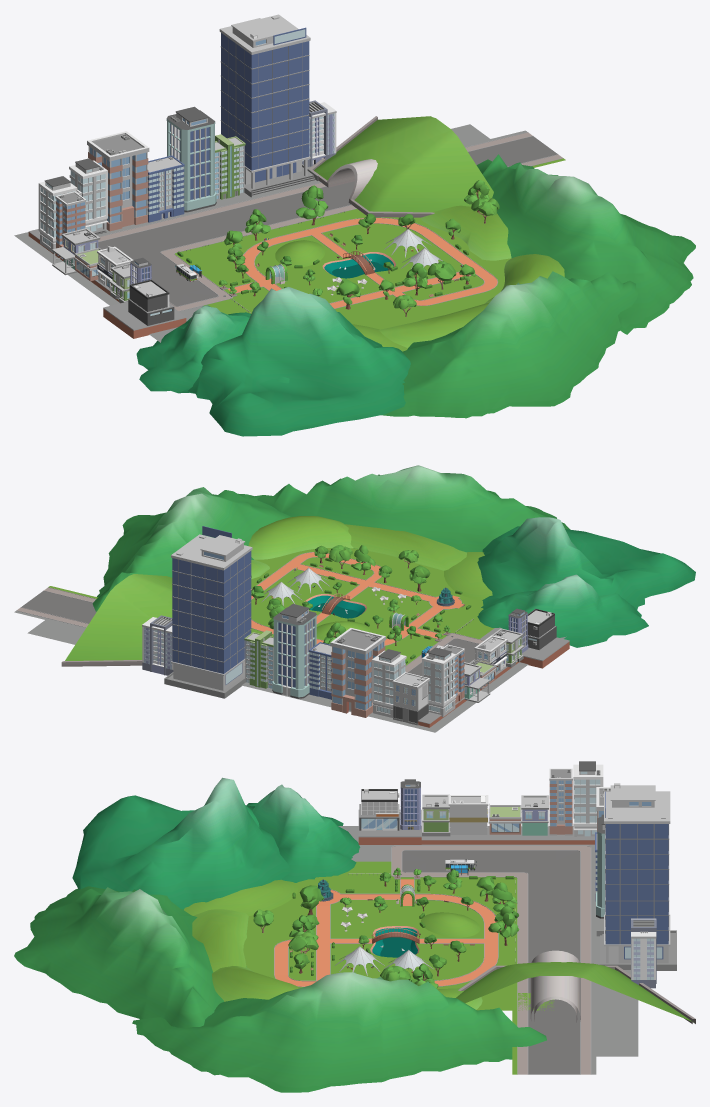
The model's file is park.glb.
3 renders of one model, top to bottom at view 1: azimuth 30°, elevation 25°; view 2: azimuth 150°, elevation 25°; view 3: azimuth 270°, elevation 25°, orthographic. The views are drawn at different scales.
Visible parts, largest first — view 1: SM_mountain_16, SM_mountain_15, SM_mountain_17, SM_home_business_centers_12, SM_tunnel_001, SM_grass_17, SM_mountain_014, SM_home_business_centers_11, SM_home_business_centers_6, SM_grass_11, SM_park_road_007, SM_ground_3 (+30 smaller); view 2: SM_mountain_16, SM_home_business_centers_12, SM_mountain_15, SM_mountain_17, SM_mountain_014, SM_tunnel_001, SM_home_business_centers_11, SM_home_business_centers_6, SM_ground_4, SM_ground_5, SM_park_road_007, SM_home_living_1_4 (+33 smaller); view 3: SM_mountain_17, SM_mountain_16, SM_mountain_15, SM_home_business_centers_12, SM_grass_17, SM_grass_11, SM_tunnel_001, SM_mountain_014, SM_park_road_007, SM_park_road_35, SM_ground_5, SM_grass_15 (+37 smaller).
Boxes of the visible parts, x1,y1,x2,y2 form: SM_mountain_16: [381, 271, 638, 418]; SM_mountain_15: [188, 287, 410, 436]; SM_mountain_17: [476, 154, 695, 334]; SM_home_business_centers_12: [219, 14, 318, 197]; SM_tunnel_001: [309, 116, 493, 217]; SM_grass_17: [105, 130, 545, 247]; SM_mountain_014: [136, 305, 289, 393]; SM_home_business_centers_11: [87, 131, 149, 231]; SM_home_business_centers_6: [166, 106, 216, 212]; SM_grass_11: [160, 145, 565, 253]; SM_park_road_007: [305, 238, 417, 289]; SM_ground_3: [421, 205, 511, 260]; SM_mountain_16: [257, 465, 569, 552]; SM_home_business_centers_12: [164, 526, 252, 698]; SM_mountain_15: [477, 517, 695, 609]; SM_mountain_17: [92, 487, 291, 611]; SM_mountain_014: [477, 574, 648, 647]; SM_tunnel_001: [61, 574, 172, 666]; SM_home_business_centers_11: [330, 628, 385, 717]; SM_home_business_centers_6: [272, 604, 316, 698]; SM_ground_4: [248, 516, 353, 559]; SM_ground_5: [345, 524, 466, 570]; SM_park_road_007: [284, 581, 395, 623]; SM_home_living_1_4: [422, 647, 456, 716]; SM_mountain_17: [132, 972, 546, 1092]; SM_mountain_16: [14, 886, 246, 1027]; SM_mountain_15: [72, 777, 291, 909]; SM_home_business_centers_12: [596, 783, 676, 970]; SM_grass_17: [554, 861, 596, 1074]; SM_grass_11: [512, 879, 554, 1074]; SM_tunnel_001: [455, 950, 695, 1023]; SM_mountain_014: [246, 784, 360, 882]; SM_park_road_007: [344, 920, 444, 962]; SM_park_road_35: [596, 917, 638, 1056]; SM_ground_5: [192, 909, 248, 972]; SM_grass_15: [428, 844, 554, 861].
Bounding box in the file's own units: 240 × 67.17 × 244.
12 materials, 2 textured.
